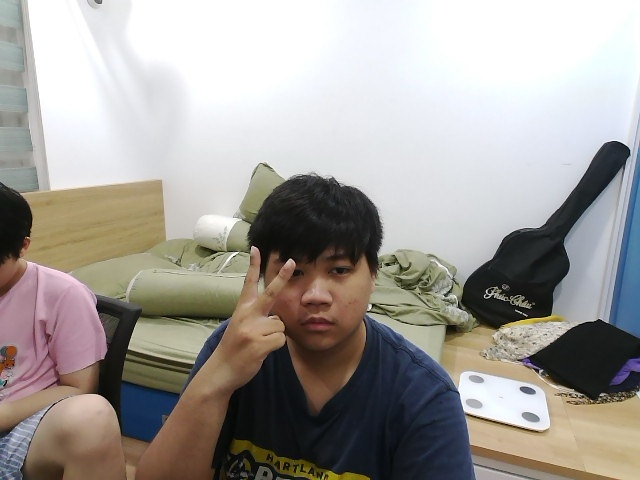face: (250, 176, 383, 351)
